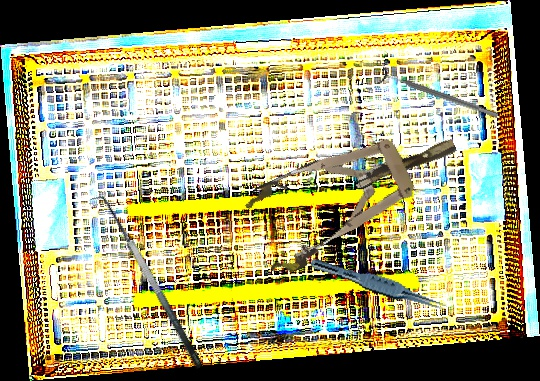Fixation Ring: (377, 66, 501, 125)
Spatula Surgical: (87, 188, 205, 378)
Speculum: (237, 104, 475, 280)
Tissue Forceps: (307, 256, 450, 315)
